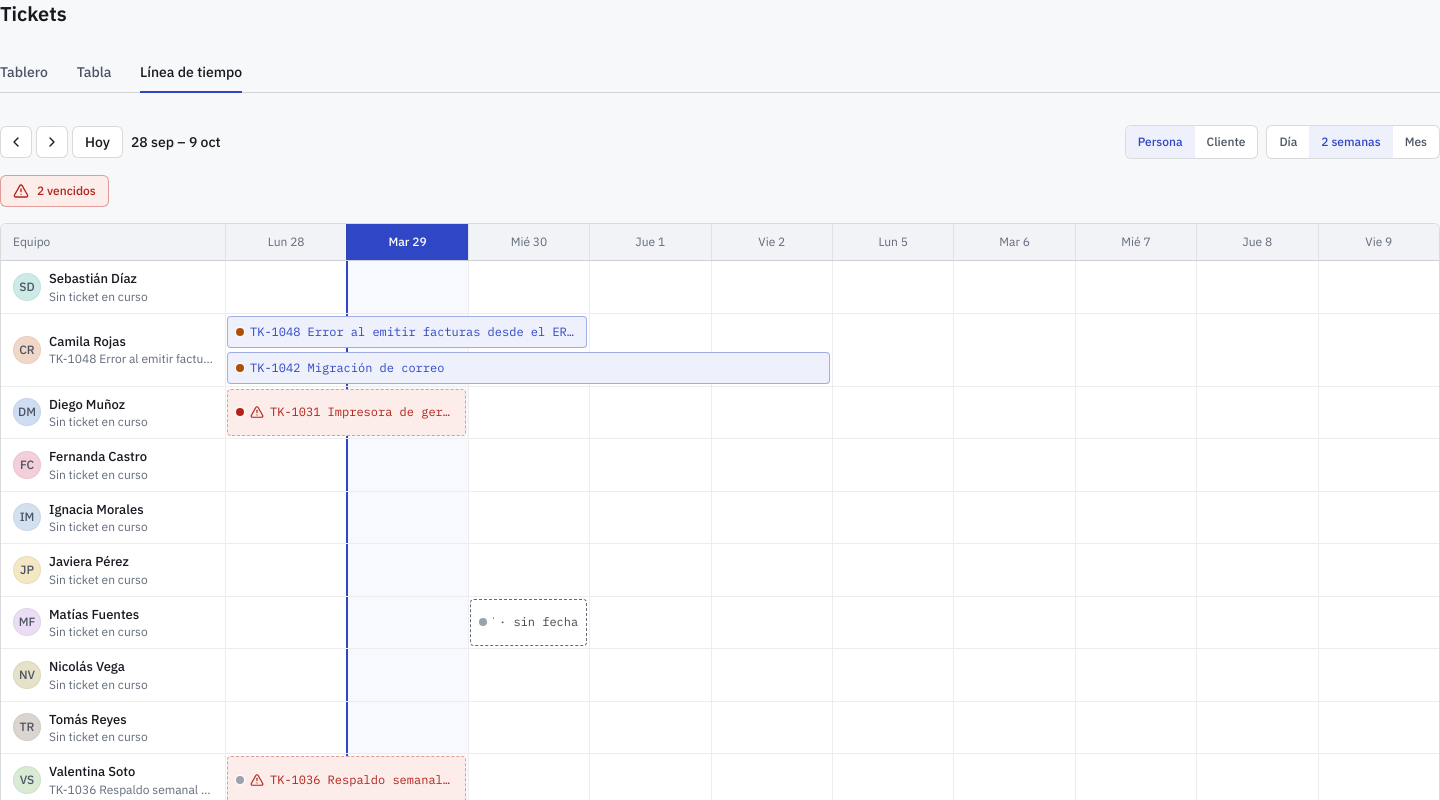
Scenario: las escalas y la navegación cambian la URL y el rango pedido
Expected: the text "Mar 29" is shown, [346,224,468,260]
What coordinates should you click on to do the following:
click the button named "Rango siguiente"
I would click on:
 (52, 142)
Its box is [36,126,68,158].
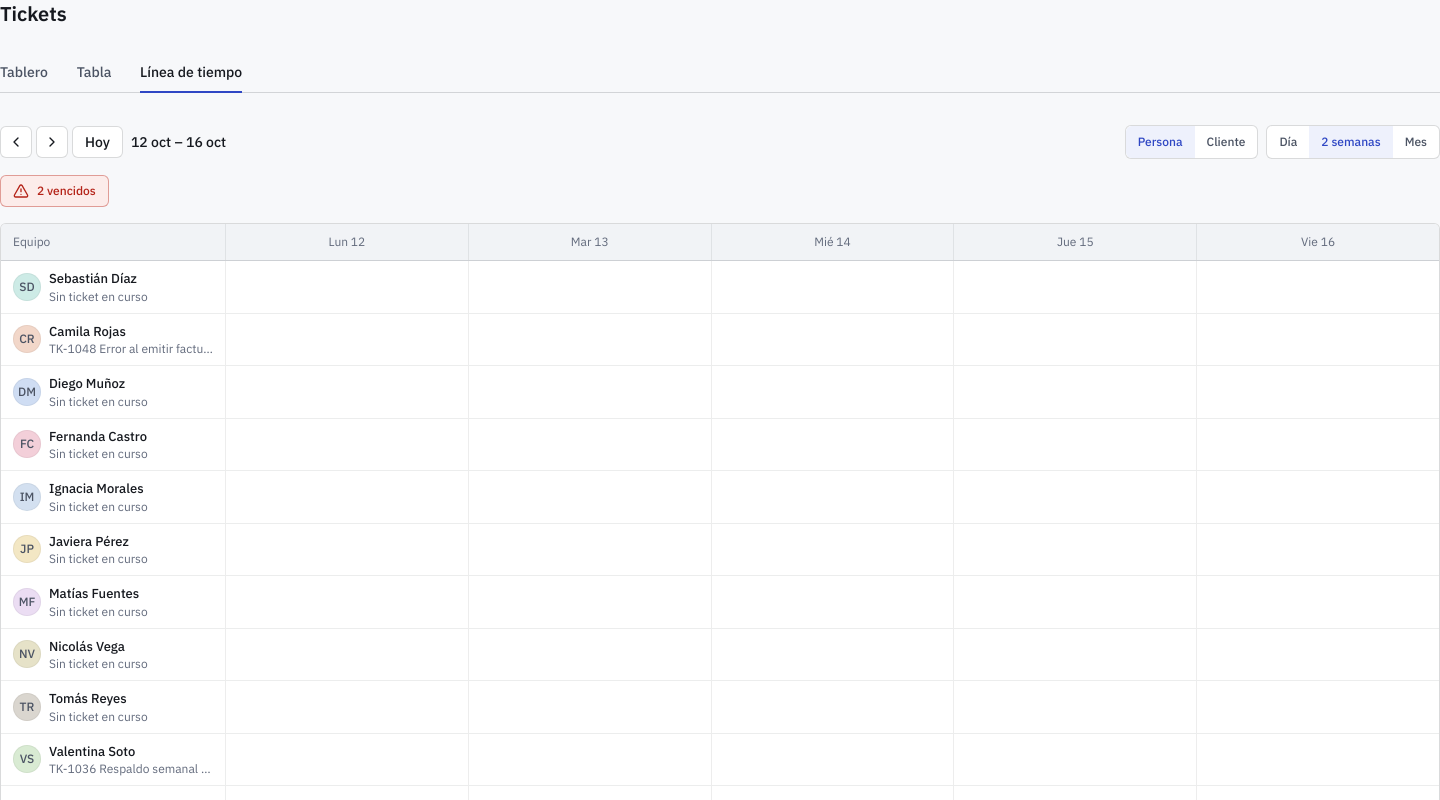
What coordinates should you click on to do the following:
click the button "Mes"
I would click on:
 (1416, 142)
Its box is [1393,126,1439,158].
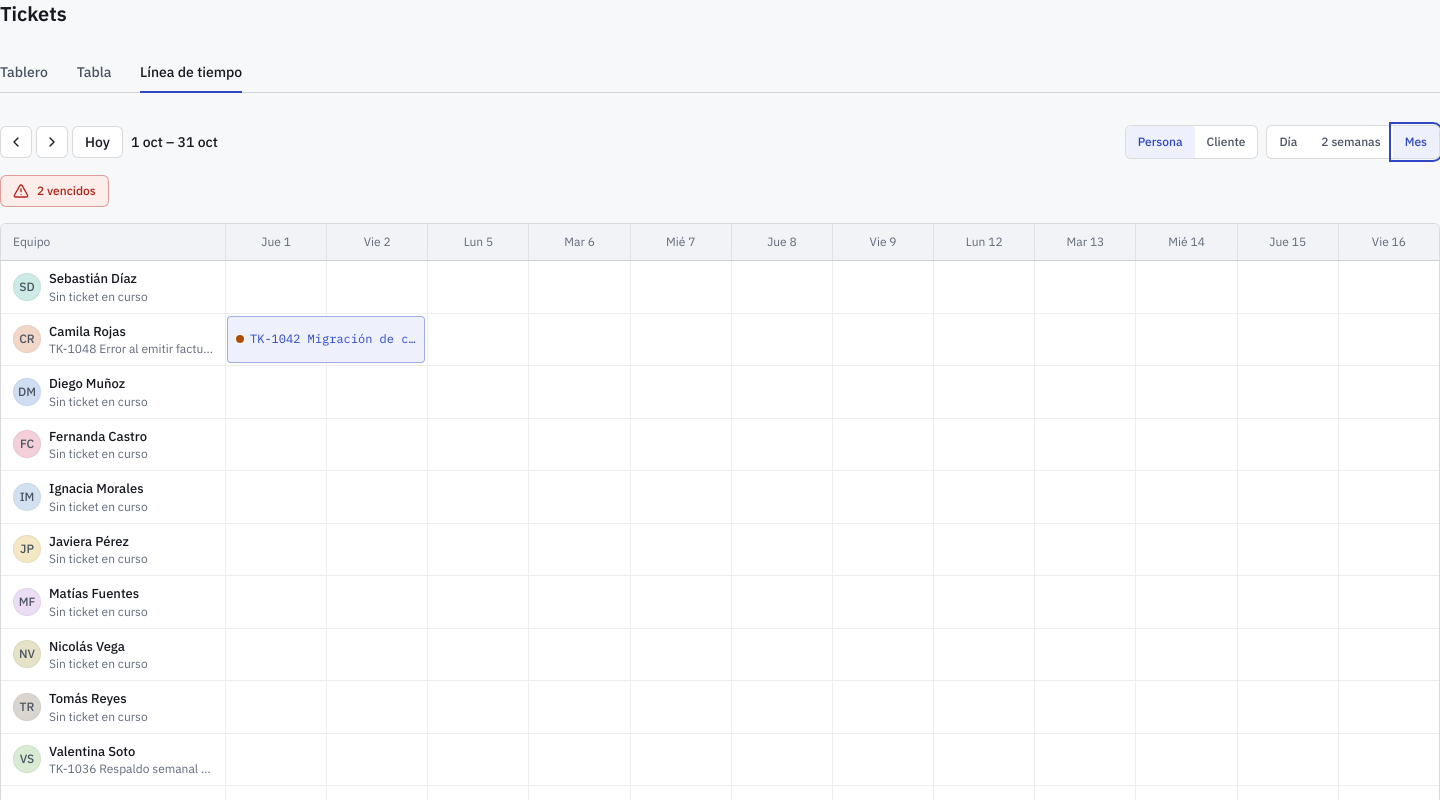
What coordinates should you click on to do the following:
click the button "Día"
I would click on:
 (1288, 142)
Its box is [1267,126,1309,158].
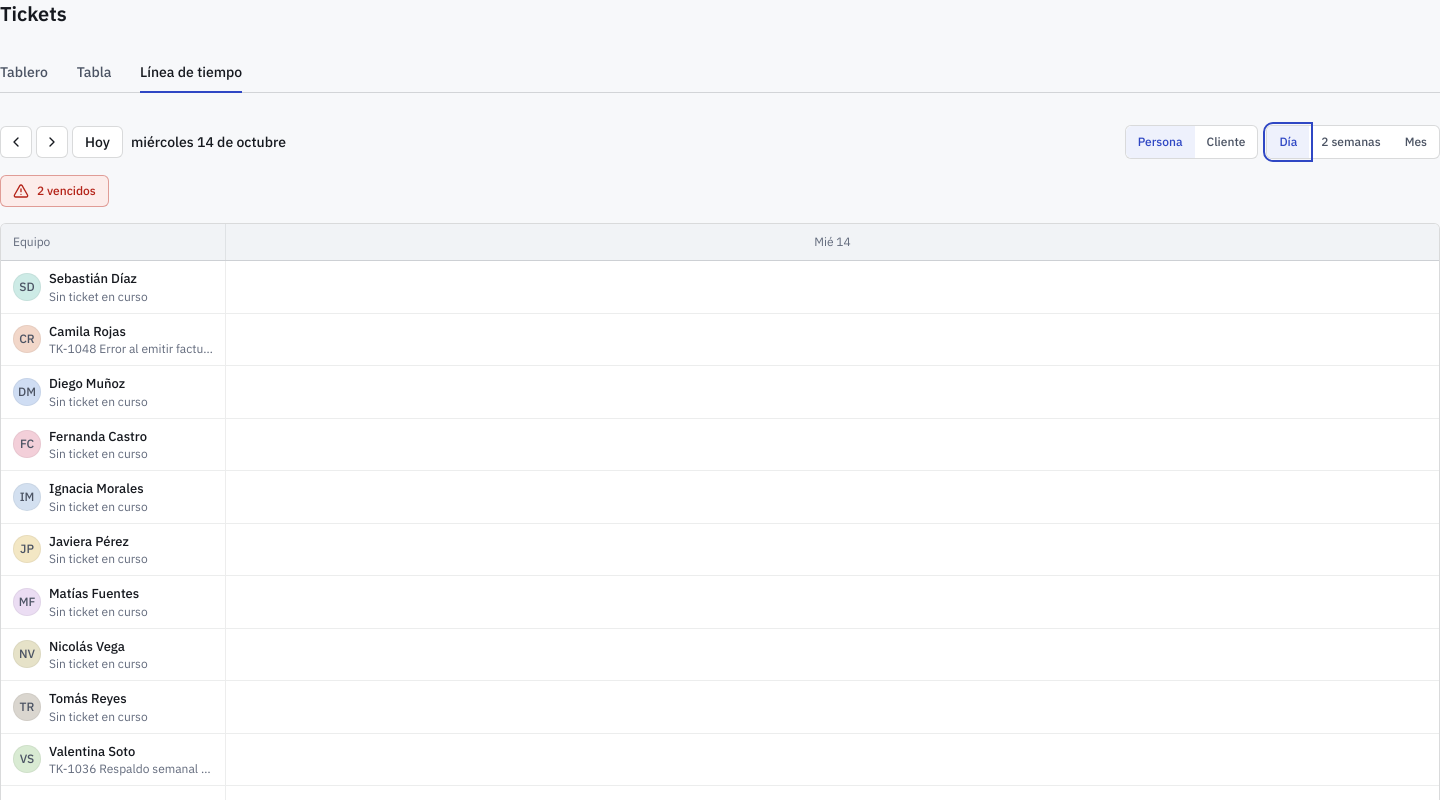
What coordinates should you click on to do the following:
click the button "Cliente"
I would click on:
 (1226, 142)
Its box is [1195,126,1257,158].
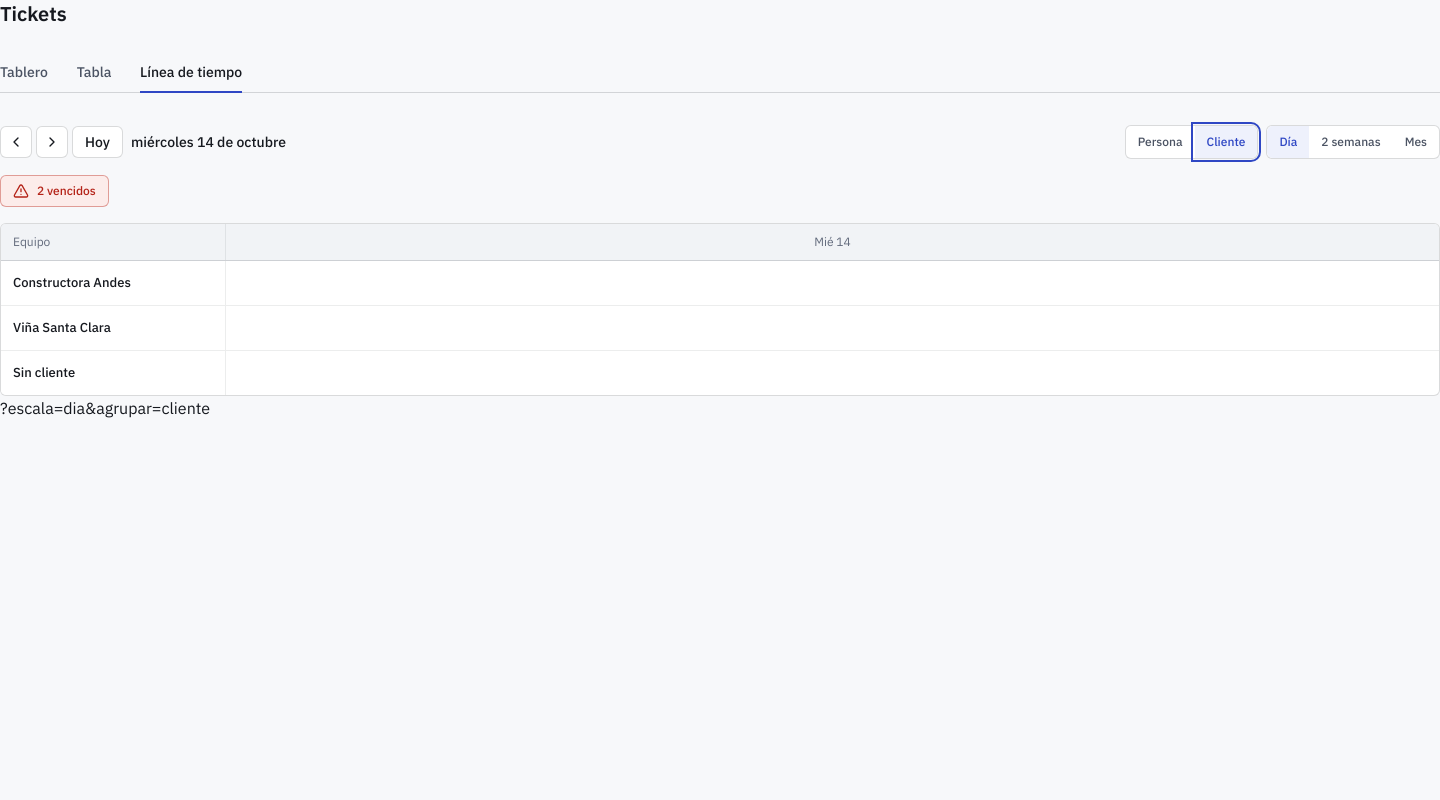
Expected: the text named "URL" reads "?escala=dia&agrupar=cliente", [0,398,210,418]
